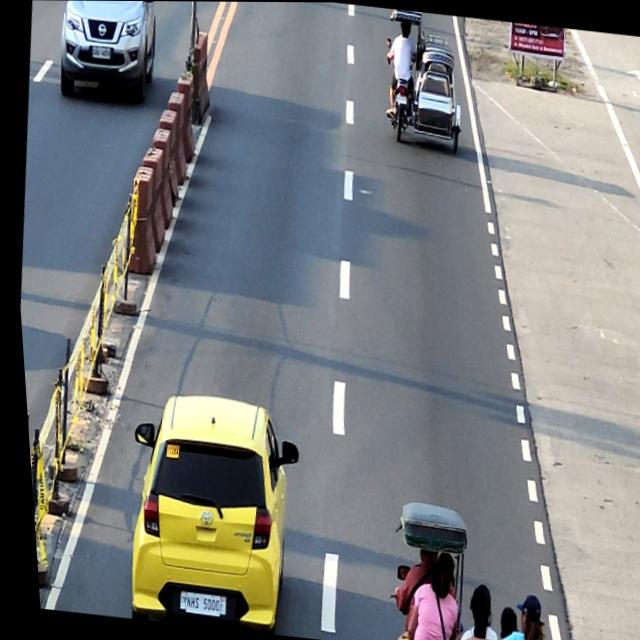Car: (106, 388, 306, 636), (50, 0, 163, 107)
License-Plate: (175, 591, 214, 615), (90, 45, 111, 60), (393, 93, 406, 103)
Tricycle: (377, 500, 548, 640), (373, 8, 471, 147)
